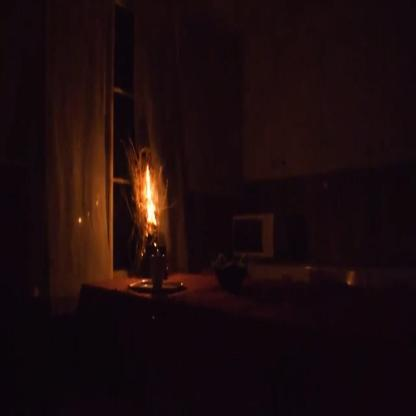fire: (140, 160, 162, 231)
